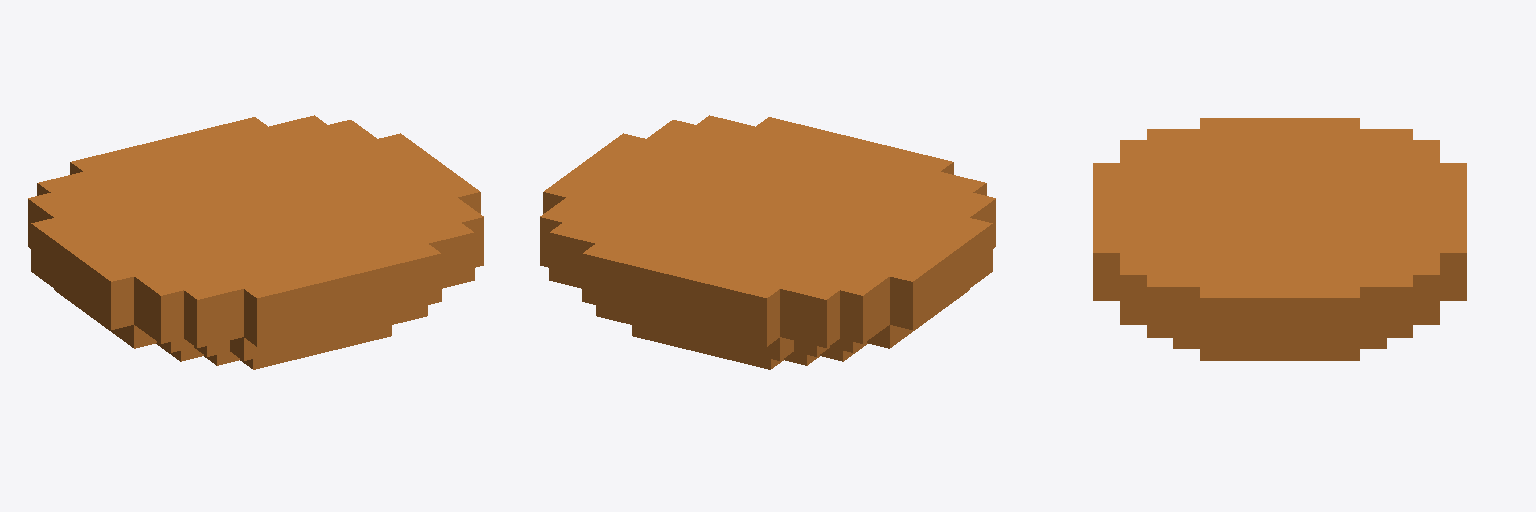
3 renders of one model, left to right at view 1: azimuth 30°, elevation 25°; view 2: azimuth 150°, elevation 25°; view 3: azimuth 270°, elevation 25°, orthographic.
Parts seen in each view (by area): view 1: object 1; view 2: object 1; view 3: object 1.
Part boxes in pixels (left/top/right/bottom): object 1: left=28, top=115, right=483, bottom=369; object 1: left=540, top=115, right=995, bottom=369; object 1: left=1093, top=118, right=1466, bottom=360.
Size of the model in its own units: 1.6 by 0.4 by 1.4.
Materials: 1 (1 with a texture image).